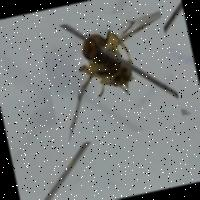Oriental-fruit-fly: (36, 4, 182, 147)
